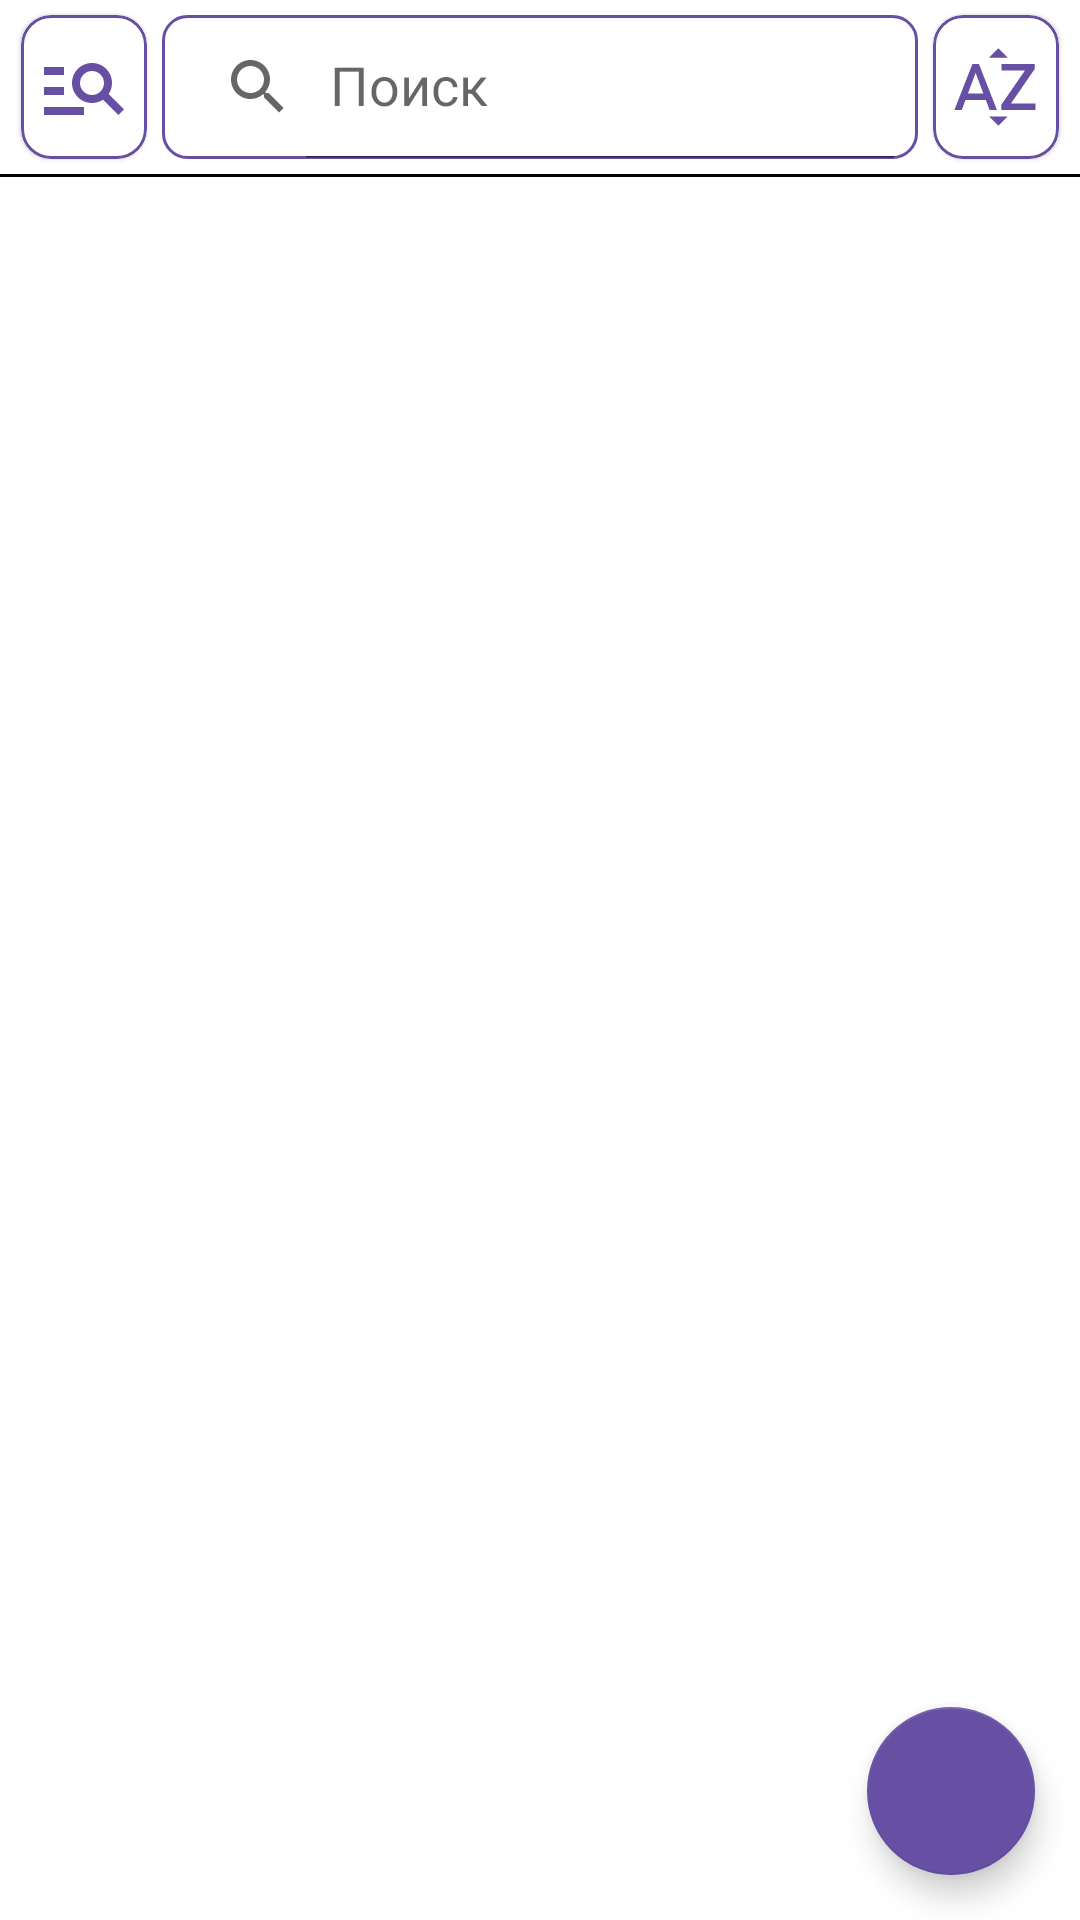

Named icons in this screenshot (1080px x 1920px) and their centers, [x,y]:
manage search: [84,89]
sort: [995,87]
